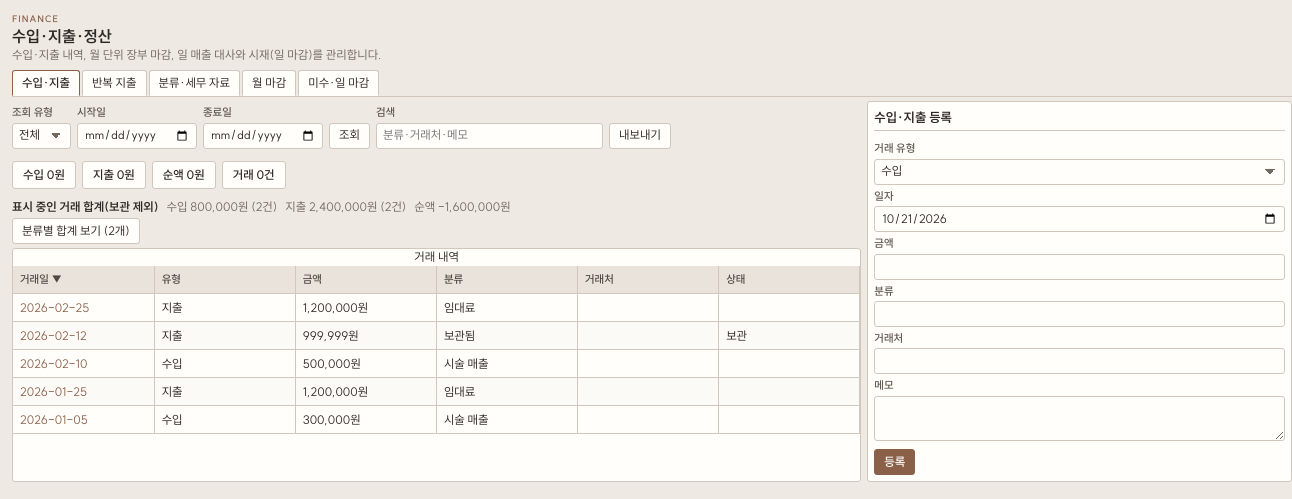
TaxReportPanel 분류·세무 자료(FIN-11) › 올해 거래를 읽어 합계·분류별·월별을 보인다(보관 거래 제외)
This screenshot has width=1292, height=499.
Click the tab "분류·세무 자료".
click(194, 83)  # box [149,70,240,96]
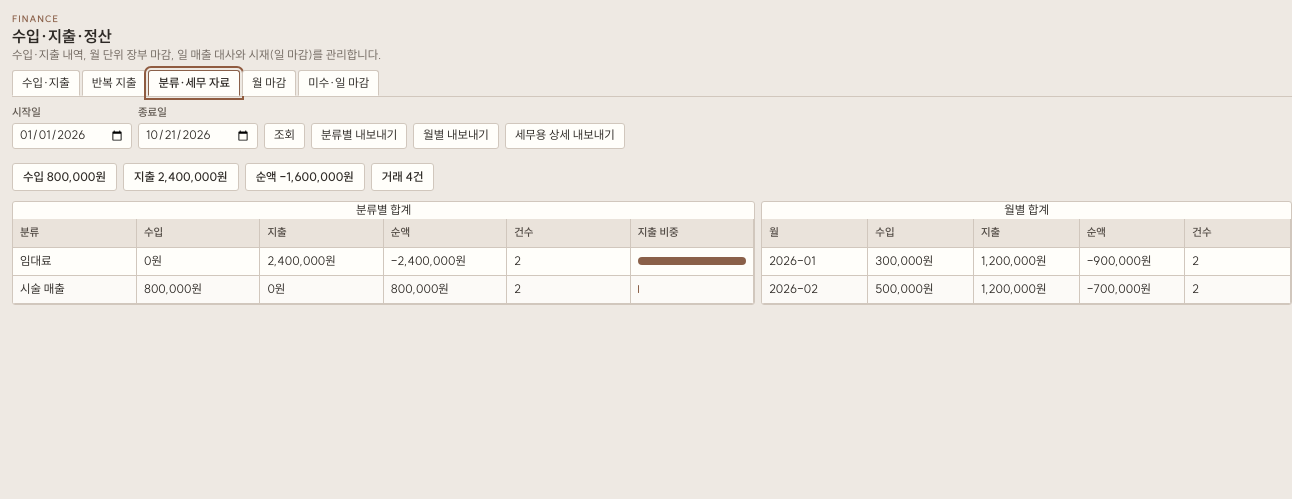
Expected: the element with test id "tax-totals" shows "수입 800,000원", [12,163,434,191]
Expected: the element with test id "tax-totals" shows "지출 2,400,000원", [12,163,434,191]
Expected: the element with test id "tax-totals" shows "순액 -1,600,000원", [12,163,434,191]
